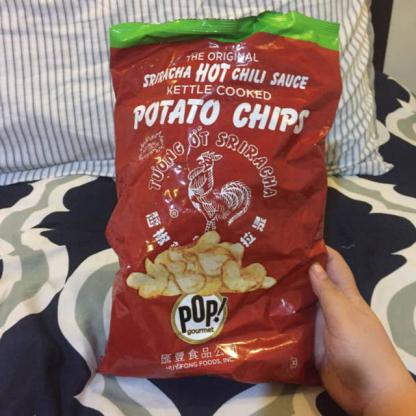potatochip: (93, 7, 348, 393)
